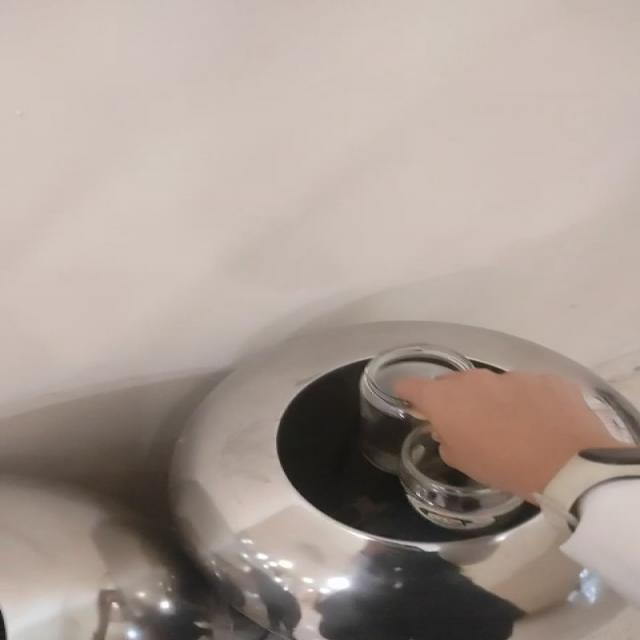Glass: (359, 344, 524, 532)
